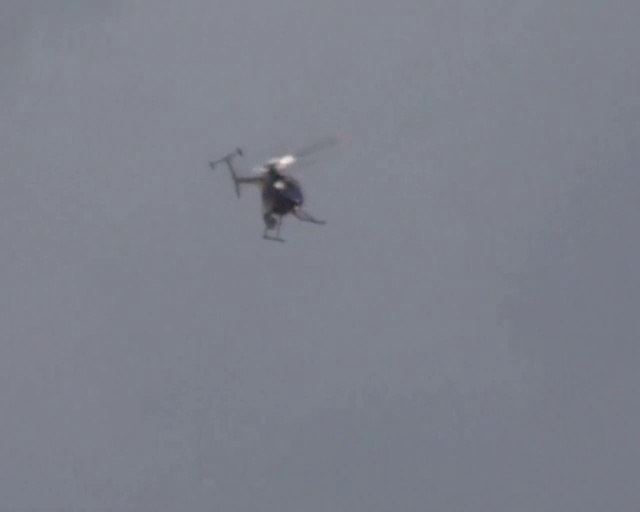HELICOPTER: (207, 134, 339, 243)
